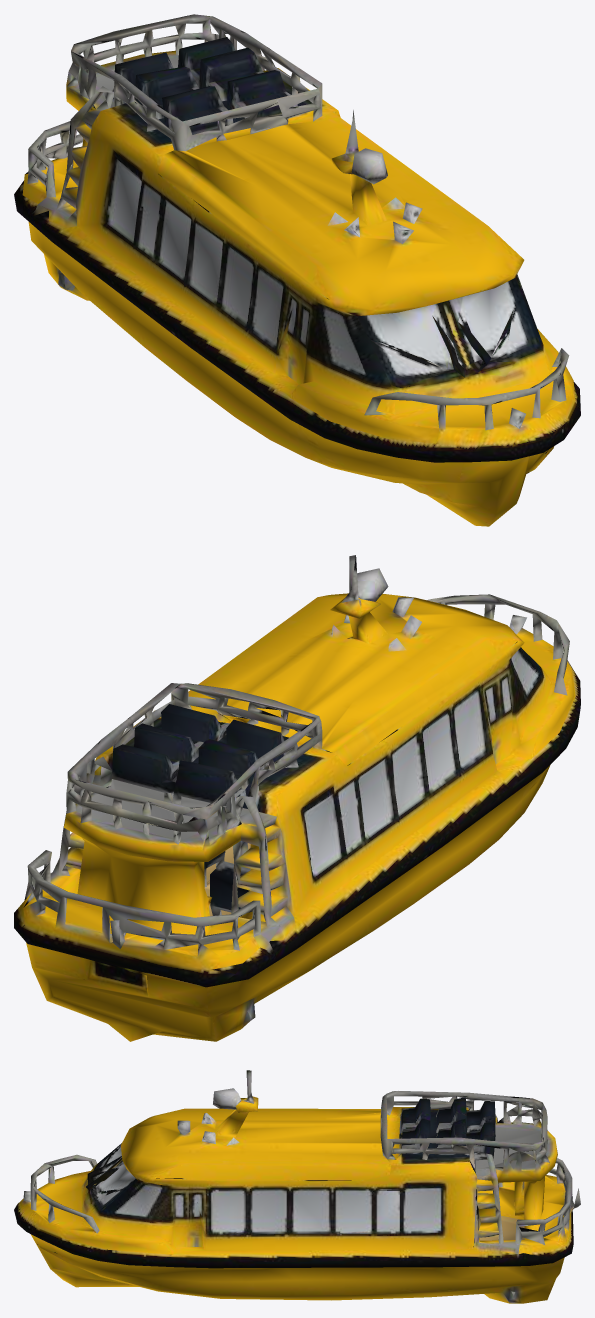
Rendered from water_taxi.glb.
3 renders of one model, top to bottom at view 1: azimuth 30°, elevation 25°; view 2: azimuth 150°, elevation 25°; view 3: azimuth 270°, elevation 25°, orthographic. The views are drawn at different scales.
Parts seen in each view (by area): view 1: water_taxi; view 2: water_taxi; view 3: water_taxi.
Part boxes in pixels (x1,y1,x2,y2): water_taxi: (14,14,580,526); water_taxi: (14,555,580,1041); water_taxi: (14,1070,580,1303).
Bounding box in the file's own units: 5.29 × 6.37 × 15.09.
Materials: 1 (1 with a texture image).
